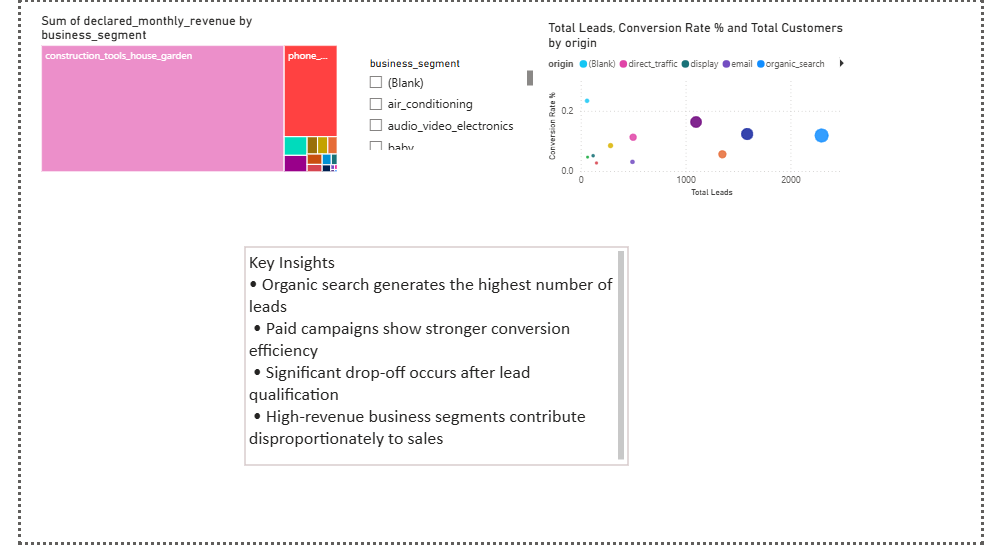

What the dashboard file says about the page in this screenshot:
{"tool":"powerbi","page":{"name":"Page 2","canvas":[1280,720],"ordinal":1},"visuals":[{"type":"scatterChart","fields":{"X":["olist_marketing_qualified_leads.Total Leads"],"Y":["olist_marketing_qualified_leads.Conversion Rate %"],"Series":["olist_marketing_qualified_leads.origin"],"Size":["olist_marketing_qualified_leads.Total Customers"]},"box":[698.6,24.3,415.7,240],"z":0},{"type":"treemap","fields":{"Group":["olist_closed_deals_dataset.business_segment"],"Values":["Sum(olist_closed_deals_dataset.declared_monthly_revenue)"]},"box":[22.9,14.3,404.3,217.1],"z":1000},{"type":"slicer","fields":{"Values":["olist_closed_deals_dataset.business_segment"]},"box":[452.9,67.1,235.7,134.3],"z":2000},{"type":"textbox","box":[298,326,512,292],"z":3000}]}

Visuals, with their boxes in screenshot pixels (x1, y1, x2, y2), scaled from the page's 1280x720 canvas onto the 996x548 screenshot:
scatterChart - olist_marketing_qualified_leads.Total Leads x olist_marketing_qualified_leads.Conversion Rate %: <region>544, 18, 867, 201</region>
treemap - olist_closed_deals_dataset.business_segment x Sum(olist_closed_deals_dataset.declared_monthly_revenue): <region>18, 11, 332, 176</region>
slicer - olist_closed_deals_dataset.business_segment: <region>352, 51, 536, 153</region>
textbox: <region>232, 248, 630, 470</region>
